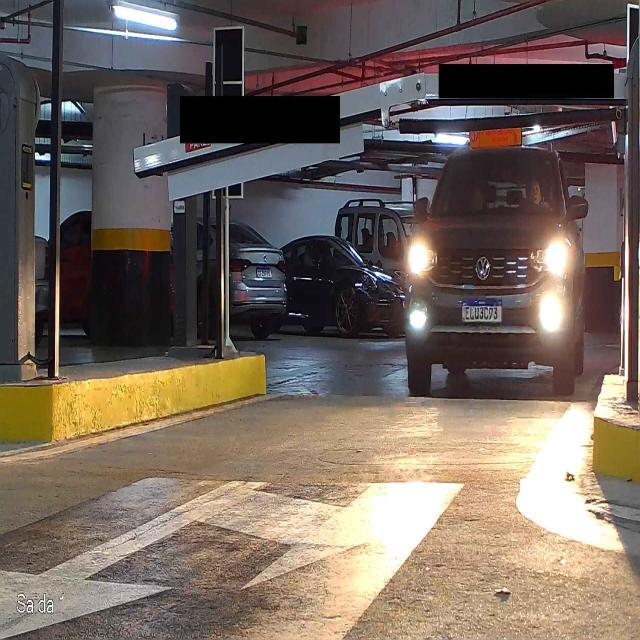mercosul_plate: (460, 298, 504, 324)
